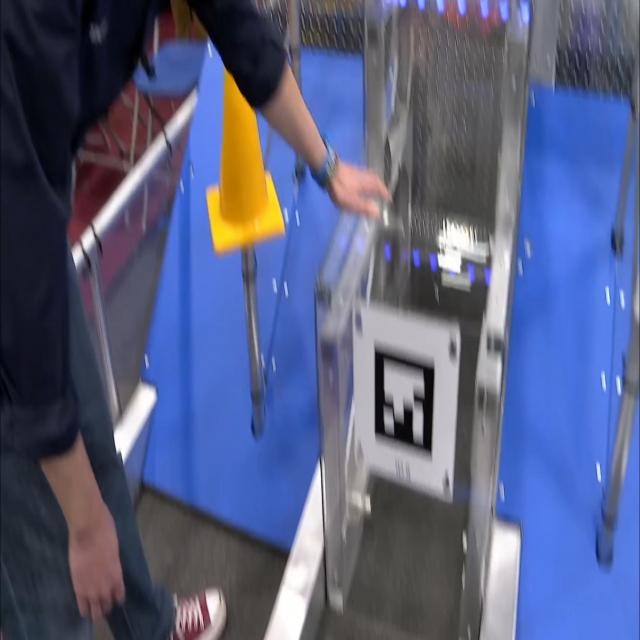frc_cone: (202, 17, 290, 253)
